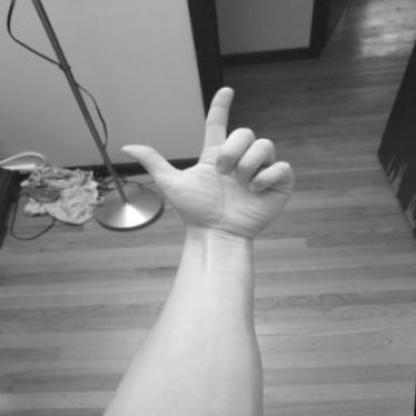L: (111, 80, 305, 250)
